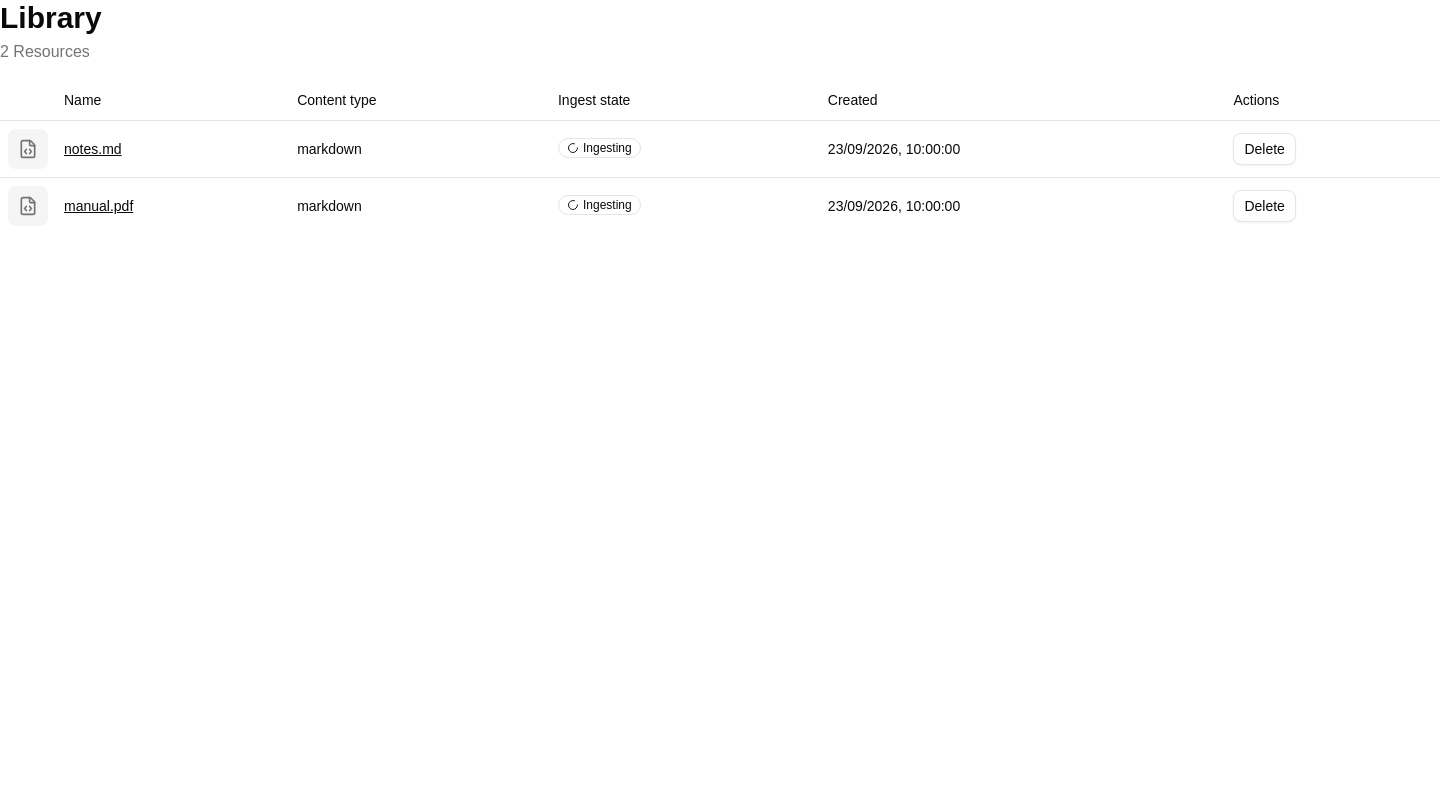
LibrarySection › Delete › should close the dialog, keep the row and show the text of a Refusal
Click the button with aria-label "Delete notes.md".
click(1265, 148)  # box top-left (1233, 132), bottom-right (1296, 164)
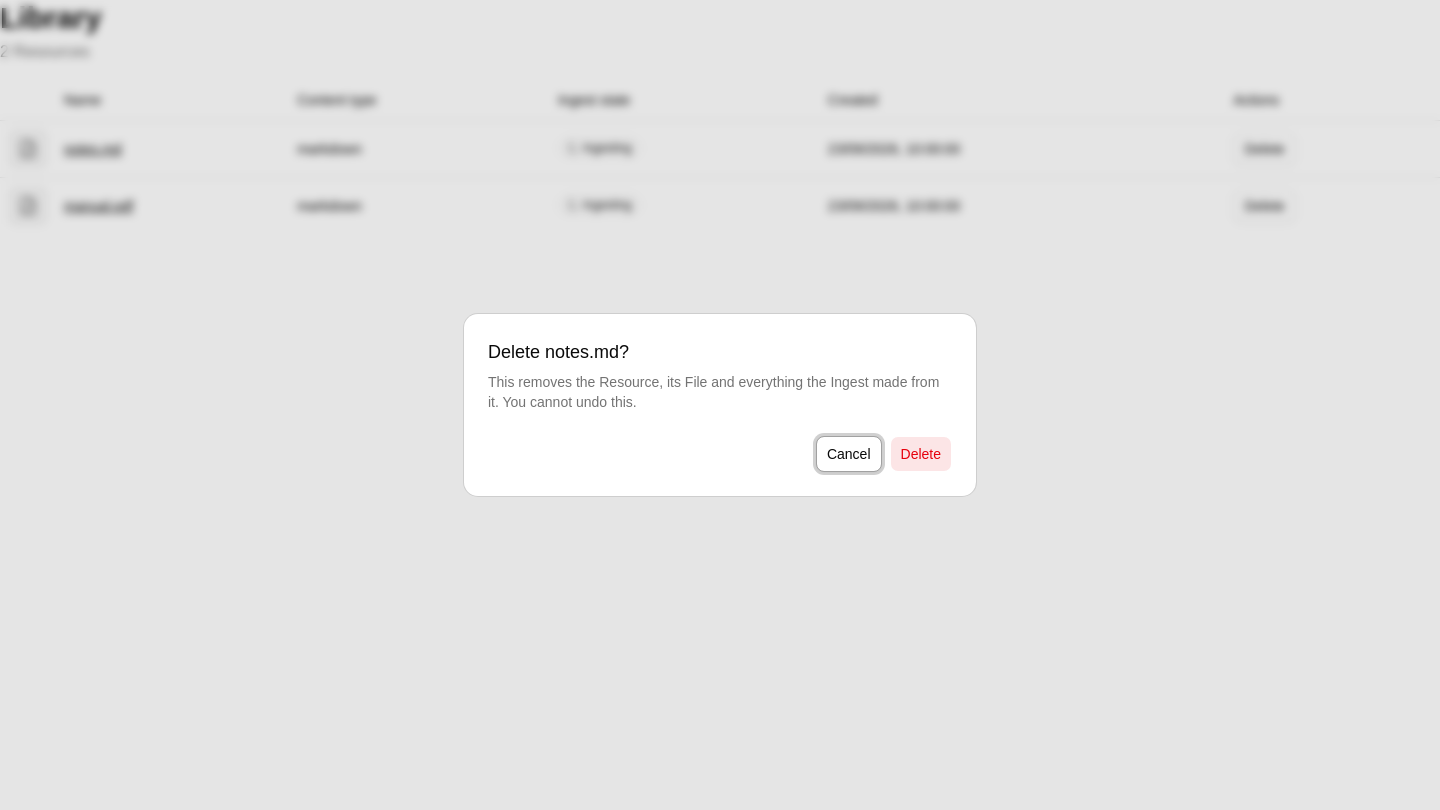
Click the button "Delete".
click(921, 454)  # box top-left (890, 436), bottom-right (952, 472)
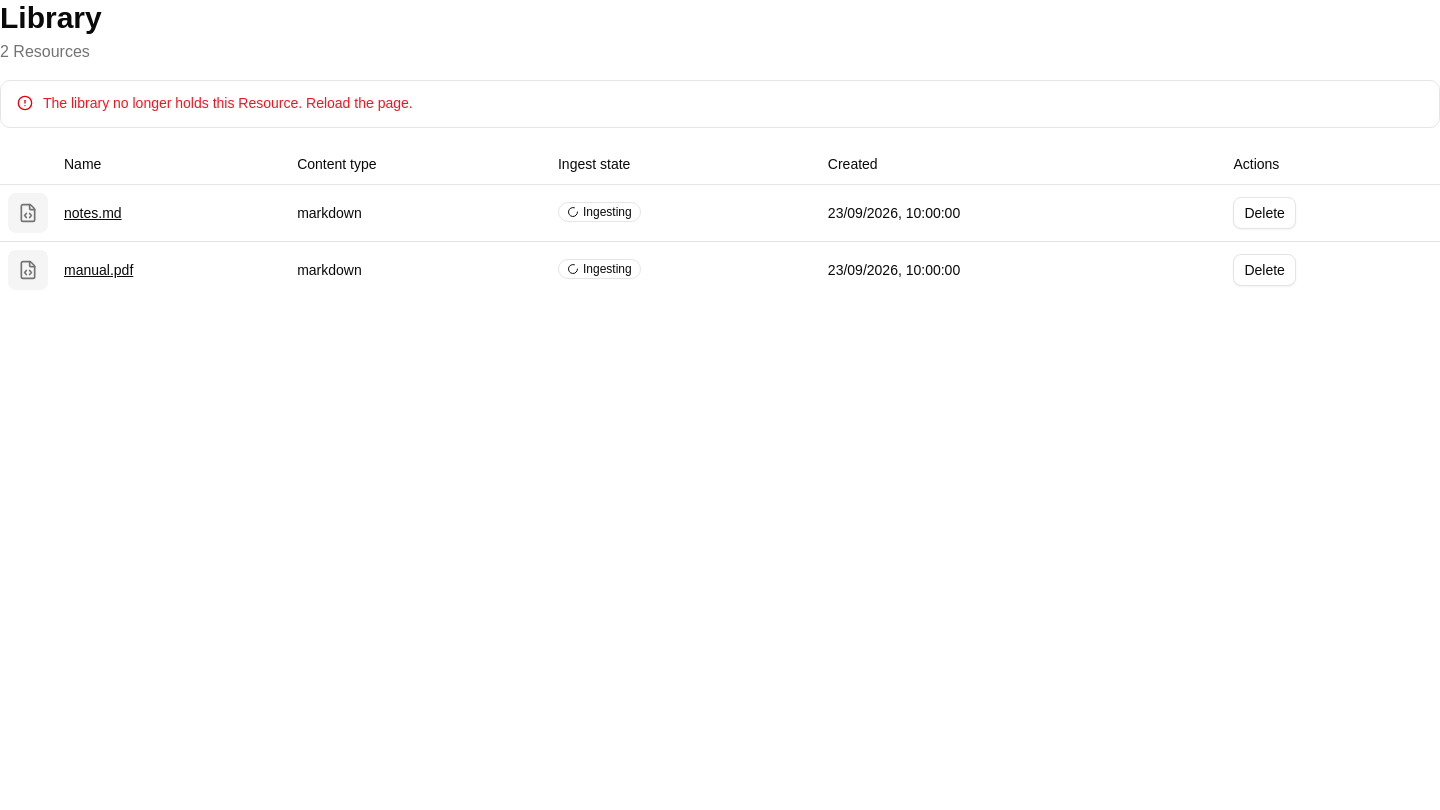
Expected: the link "notes.md" is shown, top-left (64, 204), bottom-right (122, 220)
Now the list item "The library no longer holds this Resource. Reload the page." is shown, box top-left (43, 95), bottom-right (413, 111)
Now the dialog is gone
